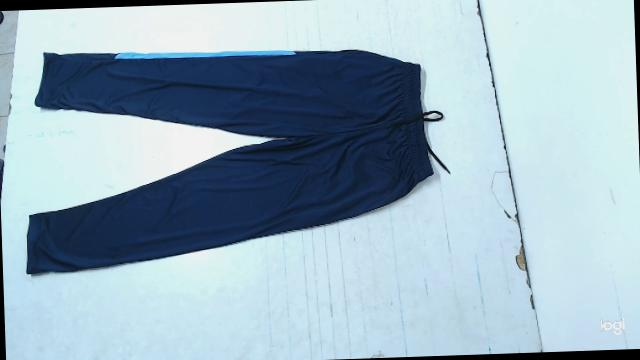new-garment: (27, 50, 439, 274)
